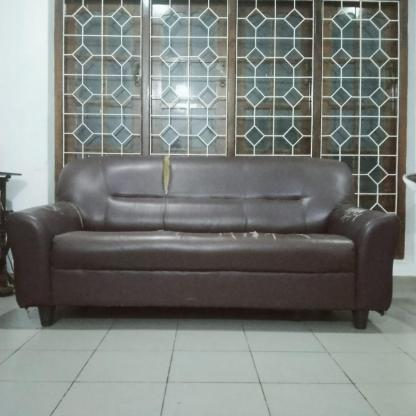Sofa: (7, 154, 396, 328)
